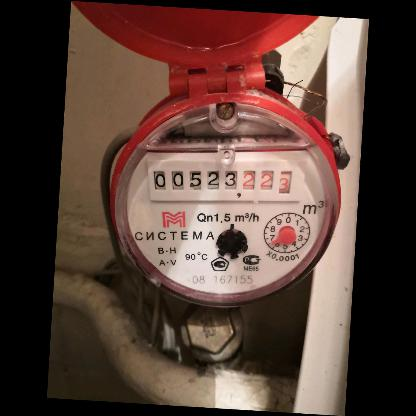digital_screen: (144, 158, 240, 202)
